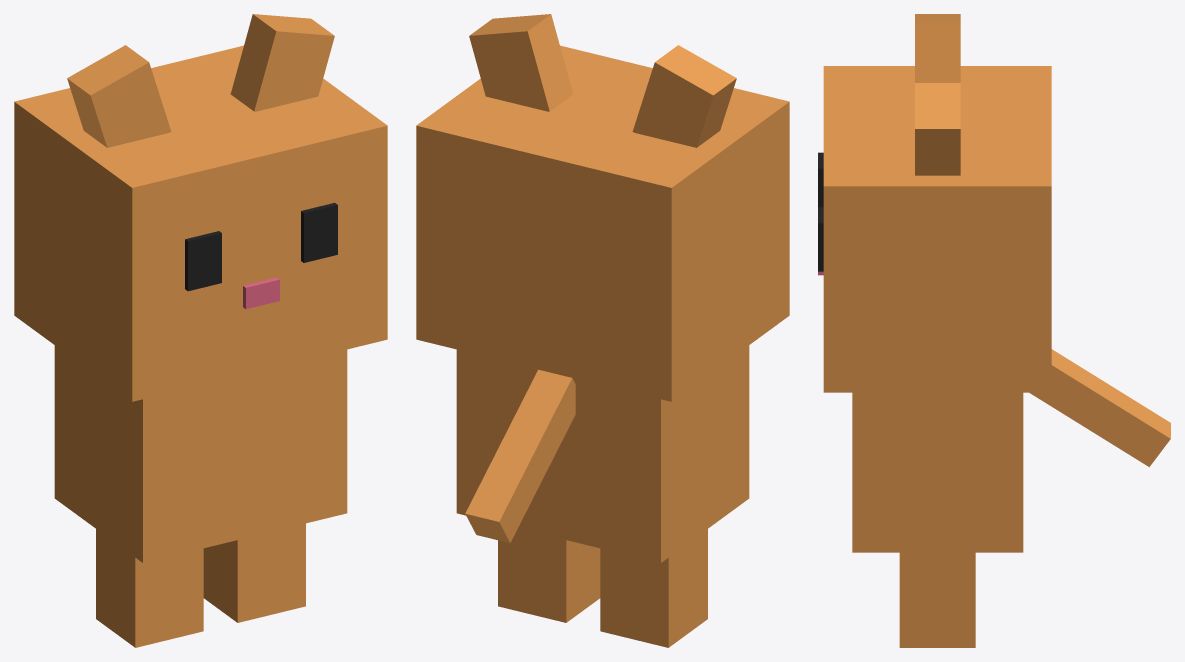
File: cat.glb
3 views of the same model, side by side, from view 1: azimuth 30°, elevation 25°; view 2: azimuth 150°, elevation 25°; view 3: azimuth 270°, elevation 25° (orthographic). The views are drawn at different scales.
Parts seen in each view (by area): view 1: Cat; view 2: Cat; view 3: Cat.
Boxes of the visible parts, x1=… form: Cat: x1=14, y1=14, x2=387, y2=647; Cat: x1=416, y1=14, x2=789, y2=647; Cat: x1=818, y1=14, x2=1170, y2=647.
Bounding box in the file's own units: 0.75 × 1.61 × 0.9289.
